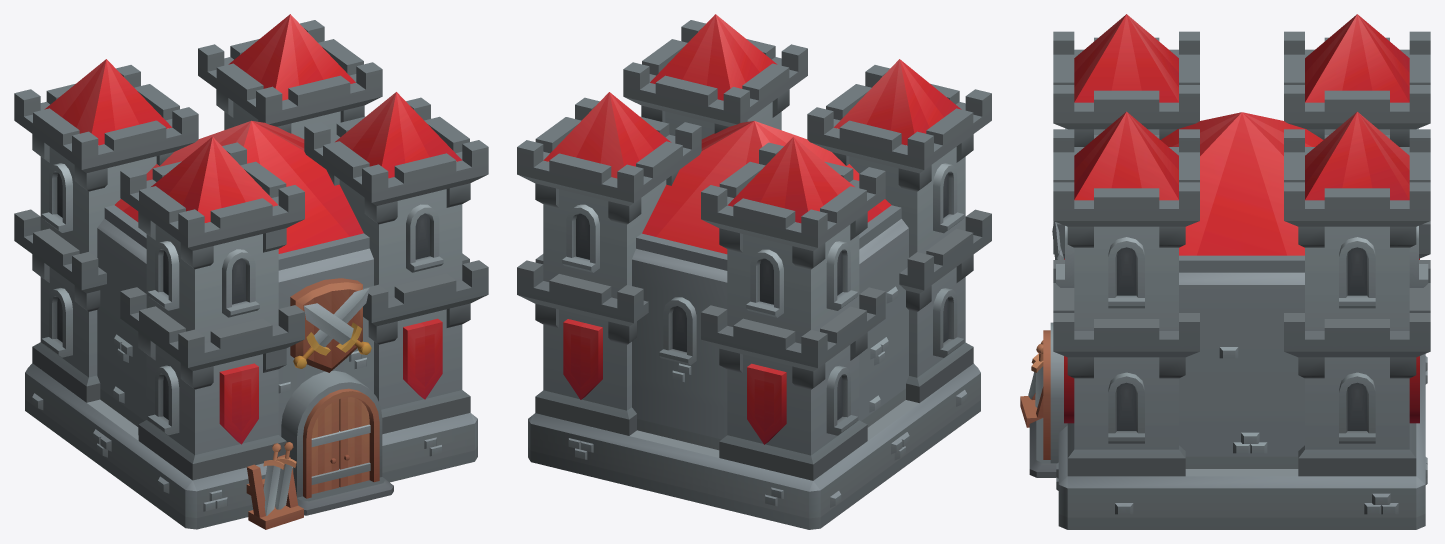
File: building_barracks_red.glb
The picture shows the model from 3 angles, left to right: view 1: azimuth 30°, elevation 25°; view 2: azimuth 150°, elevation 25°; view 3: azimuth 270°, elevation 25°; orthographic projection. The views are drawn at different scales.
Parts seen in each view (by area): view 1: building_barracks_red; view 2: building_barracks_red; view 3: building_barracks_red.
Part boxes in pixels (x1,y1,x2,y2): building_barracks_red: (14, 14, 488, 529); building_barracks_red: (517, 14, 991, 529); building_barracks_red: (1020, 14, 1430, 529).
Bounding box in the file's own units: 1.44 × 1.64 × 1.57.
Materials: 1 (1 with a texture image).
